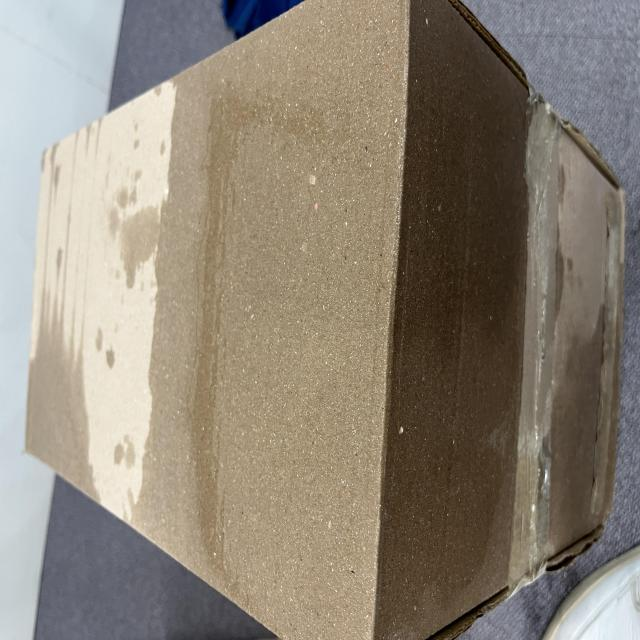wet: (0, 30, 480, 640)
